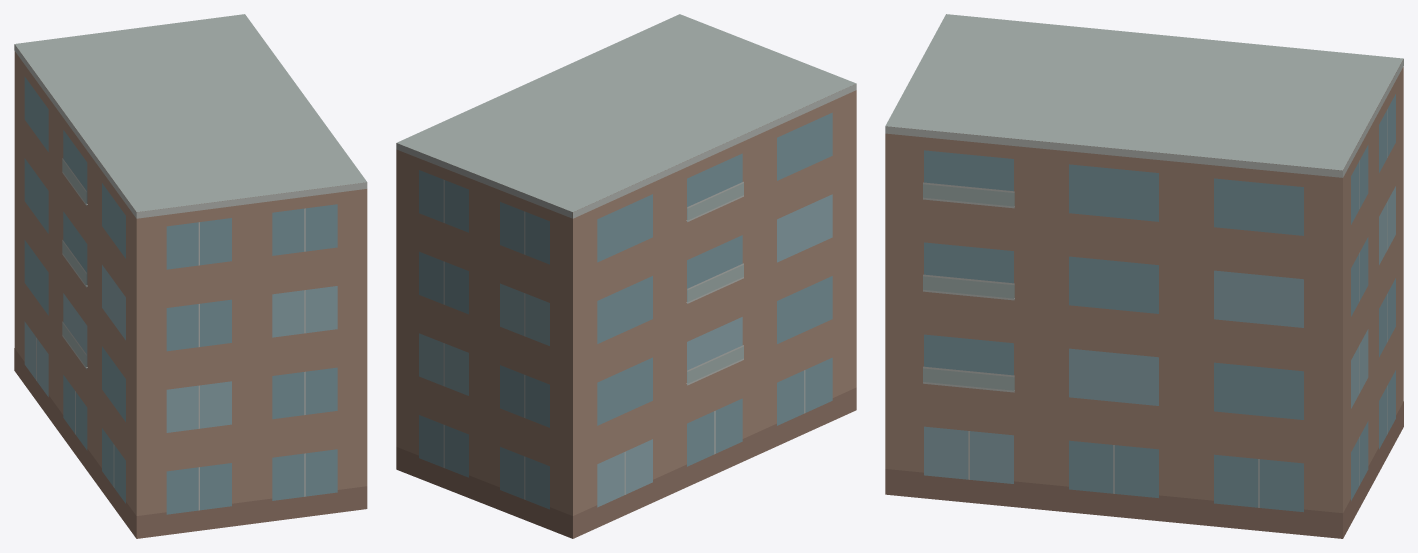
Rendered from residential-3c9cd058-b9d9-4e36-a8d8-2acf247ba923.glb.
3 views of the same model, side by side, from view 1: azimuth 30°, elevation 25°; view 2: azimuth 150°, elevation 25°; view 3: azimuth 270°, elevation 25° (orthographic). The views are drawn at different scales.
Visible parts, largest first — view 1: residential-3c9cd058-b9d9-4e36-a8d8-2acf247ba923.tmp; view 2: residential-3c9cd058-b9d9-4e36-a8d8-2acf247ba923.tmp; view 3: residential-3c9cd058-b9d9-4e36-a8d8-2acf247ba923.tmp.
Boxes of the visible parts, bbox=[...] form: residential-3c9cd058-b9d9-4e36-a8d8-2acf247ba923.tmp: bbox=[14, 14, 367, 538]; residential-3c9cd058-b9d9-4e36-a8d8-2acf247ba923.tmp: bbox=[396, 14, 856, 538]; residential-3c9cd058-b9d9-4e36-a8d8-2acf247ba923.tmp: bbox=[885, 14, 1403, 538].
Size of the model in its own units: 11.13 by 12.2 by 15.57.
